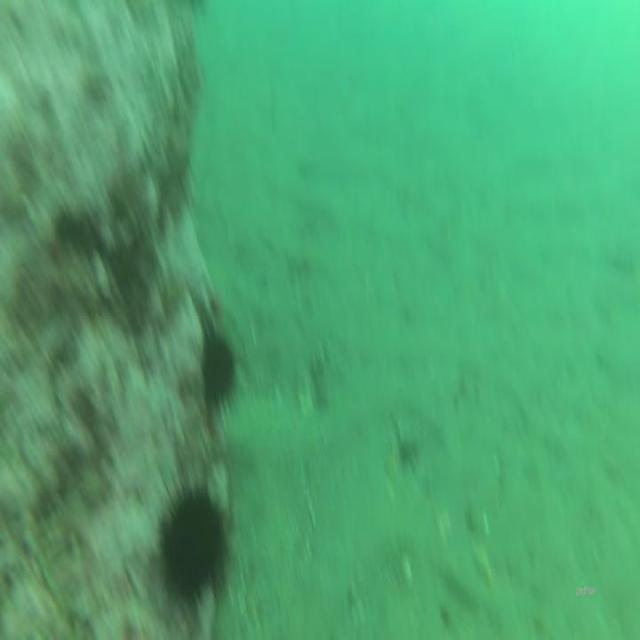echinus: (164, 484, 228, 612), (203, 327, 238, 416)
